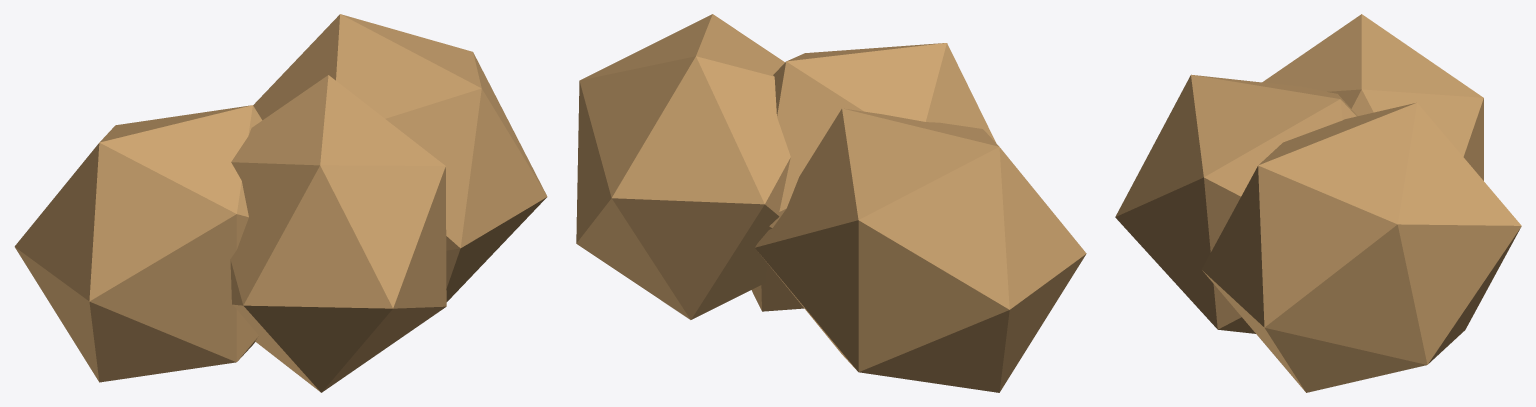
3 renders of one model, left to right at view 1: azimuth 30°, elevation 25°; view 2: azimuth 150°, elevation 25°; view 3: azimuth 270°, elevation 25°, orthographic. The views are drawn at different scales.
Parts seen in each view (by area): view 1: V04; view 2: V04; view 3: V04.
Part boxes in pixels (<box>): V04: <box>14,14,547,392</box>; V04: <box>576,14,1086,392</box>; V04: <box>1115,14,1521,392</box>.
Bounding box in the file's own units: 0.7965 × 0.4814 × 0.6229.
